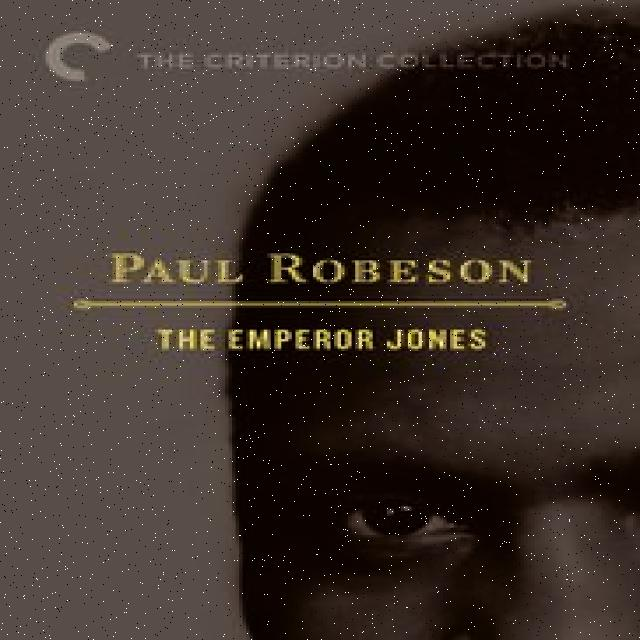movie-judul: (65, 194, 576, 374)
picture: (0, 5, 640, 640)
